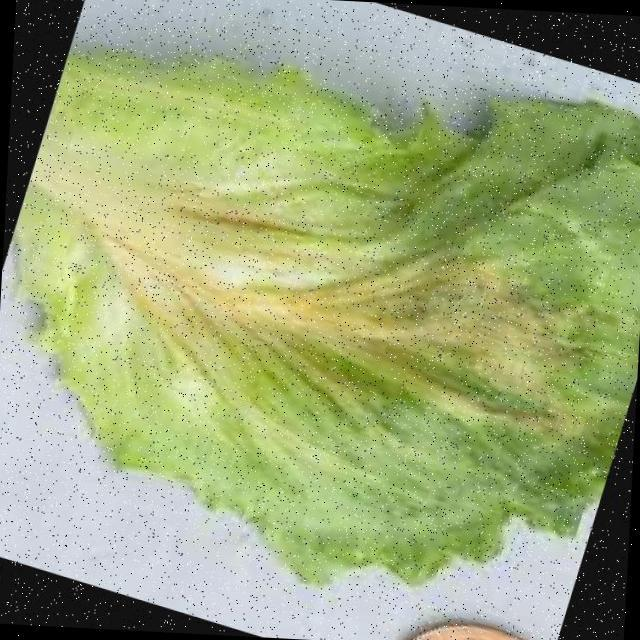Downy_mildew_on_lettuce: (89, 108, 640, 511)
